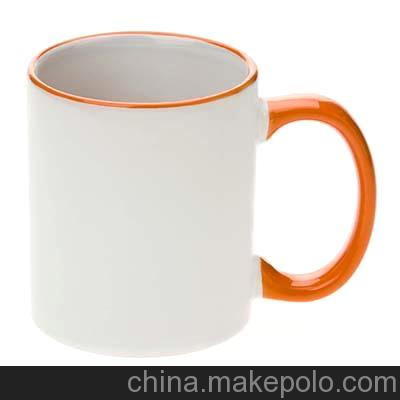cup: (24, 30, 376, 355)
